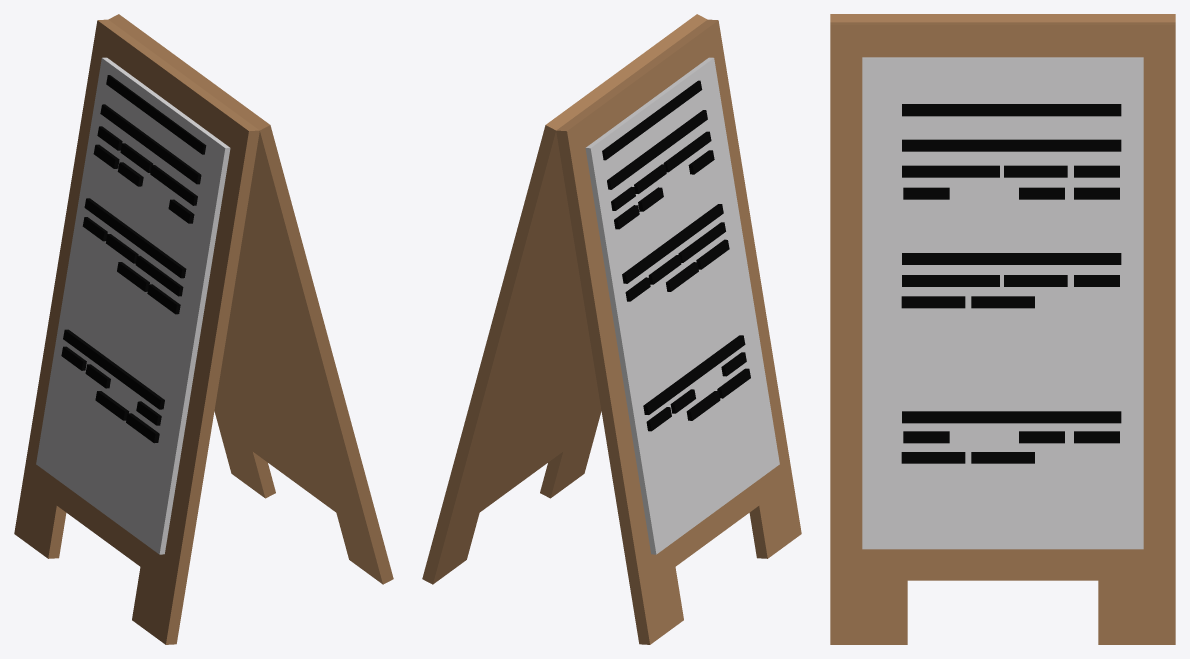
Rendered from SM_donutsBoard_01.glb.
3 views of the same model, side by side, from view 1: azimuth 30°, elevation 25°; view 2: azimuth 150°, elevation 25°; view 3: azimuth 270°, elevation 25° (orthographic). The views are drawn at different scales.
Visible parts, largest first — view 1: SM_donutsBoard_01; view 2: SM_donutsBoard_01; view 3: SM_donutsBoard_01.
Boxes of the visible parts, bbox=[...] form: SM_donutsBoard_01: bbox=[14, 14, 393, 644]; SM_donutsBoard_01: bbox=[422, 14, 801, 644]; SM_donutsBoard_01: bbox=[830, 14, 1175, 644].
Size of the model in its own units: 0.5014 by 1.04 by 0.5776.
Materials: 1 (1 with a texture image).
